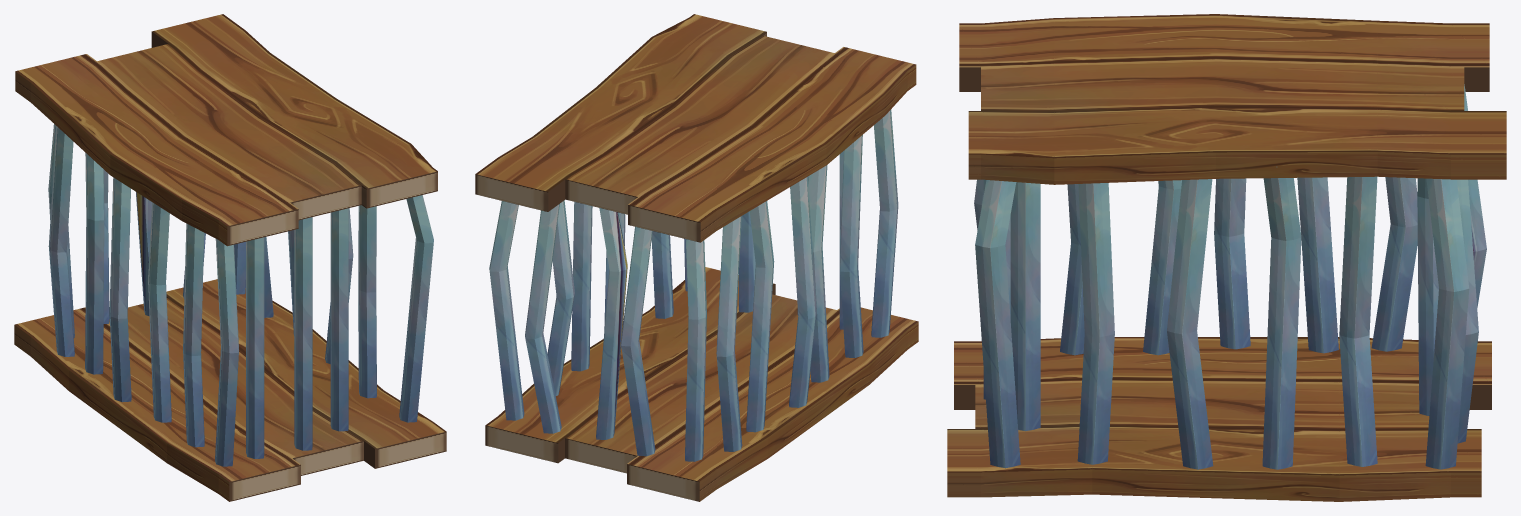
The model's file is cage.fbx.
3 renders of one model, left to right at view 1: azimuth 30°, elevation 25°; view 2: azimuth 150°, elevation 25°; view 3: azimuth 270°, elevation 25°, orthographic. The views are drawn at different scales.
Parts seen in each view (by area): view 1: cage; view 2: cage; view 3: cage.
Part boxes in pixels (x1,y1,x2,y2): cage: (14,14,446,501); cage: (475,14,918,501); cage: (947,14,1506,501).
Size of the model in its own units: 0.8175 by 0.9094 by 1.34.
